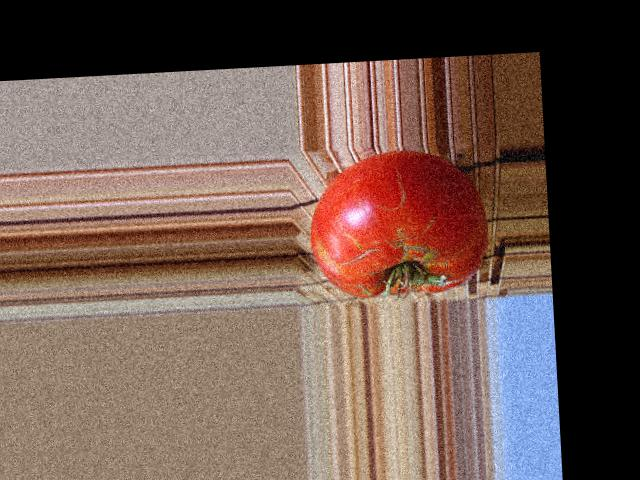tomato: (307, 148, 491, 300)
